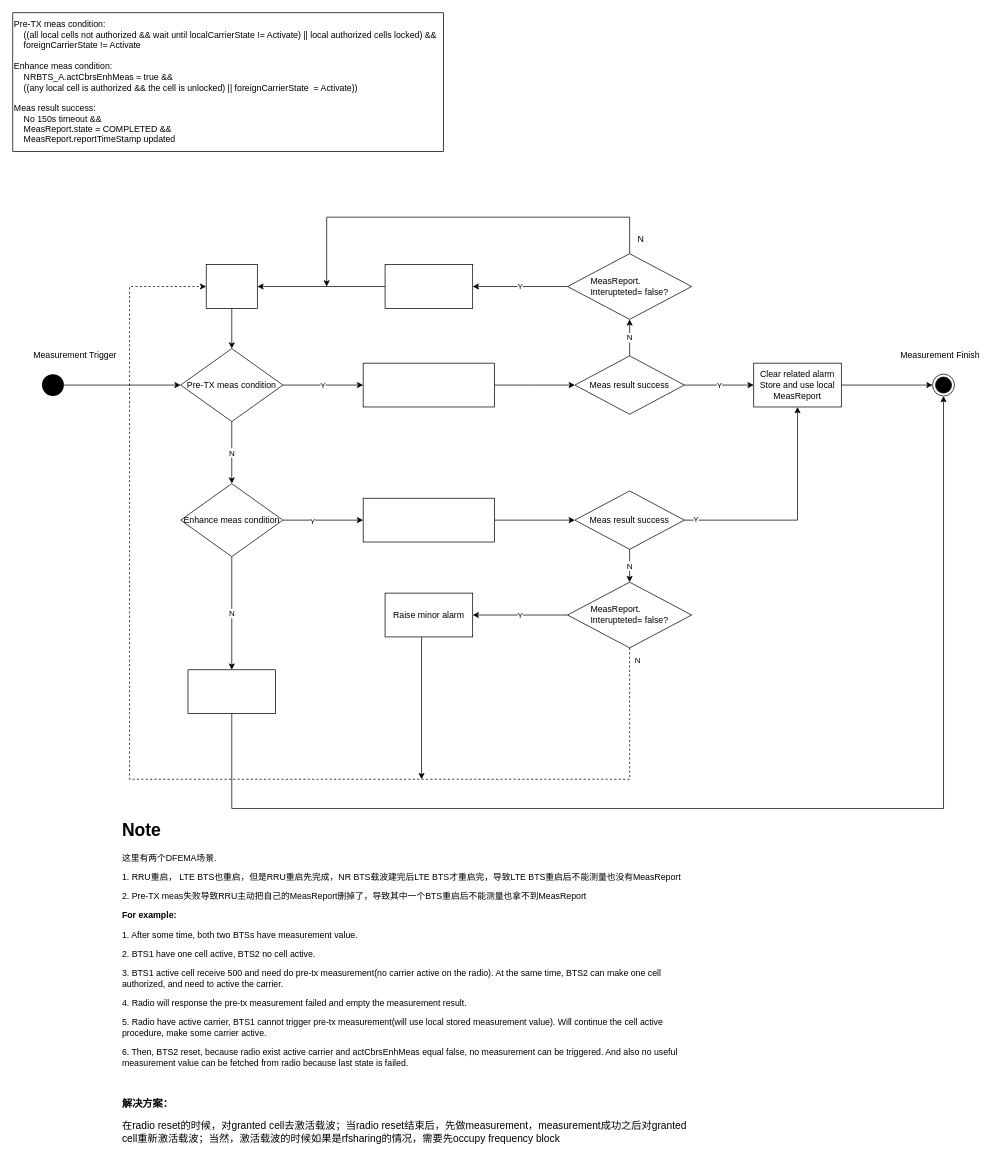
Image size: 996x1164. Some labels were removed from this diagram. The shapes that lost their labels are listed below. From the top down, each one's centre as x and y in pixels, then its label:
At pixel 231 286: "wait 60s".
At pixel 428 286: "Raise major alarm".
At pixel 428 384: "Send MeasNotify(InterruptNotAllowed)".
At pixel 428 519: "Send MeasNotify(InterruptAllowed)".
At pixel 231 691: "Use Local or IM MeasReport".
